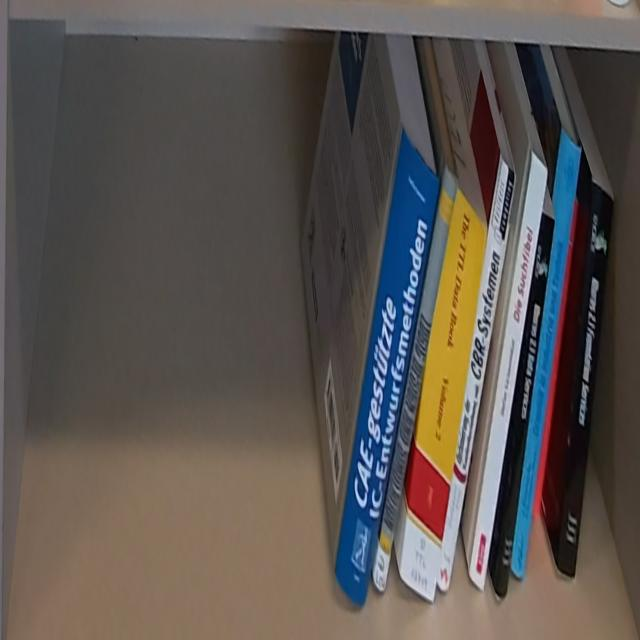Book Spine: (333, 118, 442, 608), (399, 186, 488, 607), (372, 169, 458, 595), (469, 152, 550, 592), (437, 157, 516, 595), (512, 133, 581, 583), (553, 182, 619, 584), (493, 212, 555, 599), (533, 199, 581, 519)
